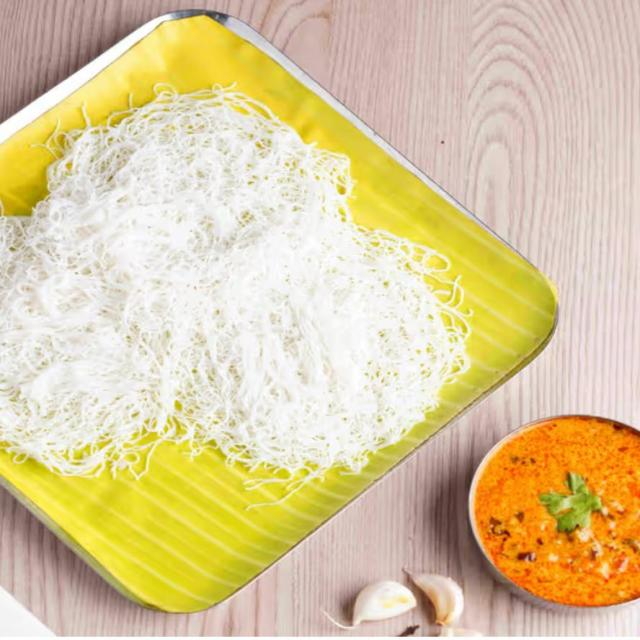IDIYAPPAM: (0, 86, 468, 490)
KURMA: (471, 421, 639, 606)
